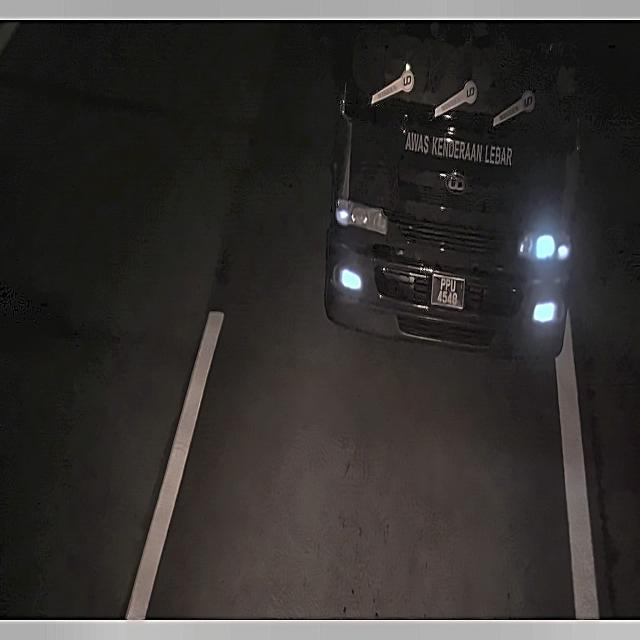car: (428, 269, 470, 322)
